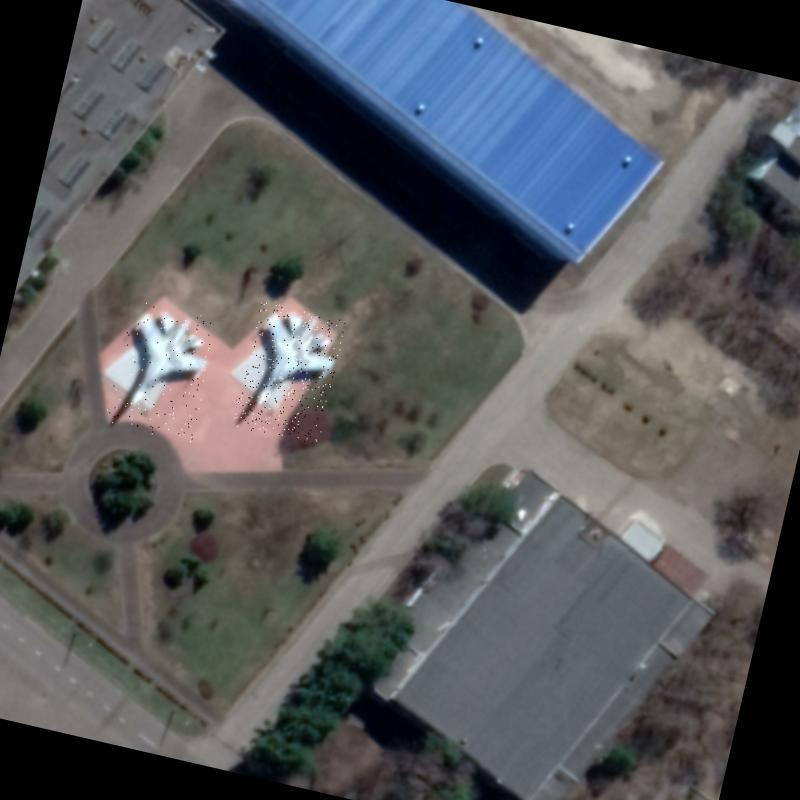A1: (232, 300, 347, 446), (104, 299, 219, 443)
